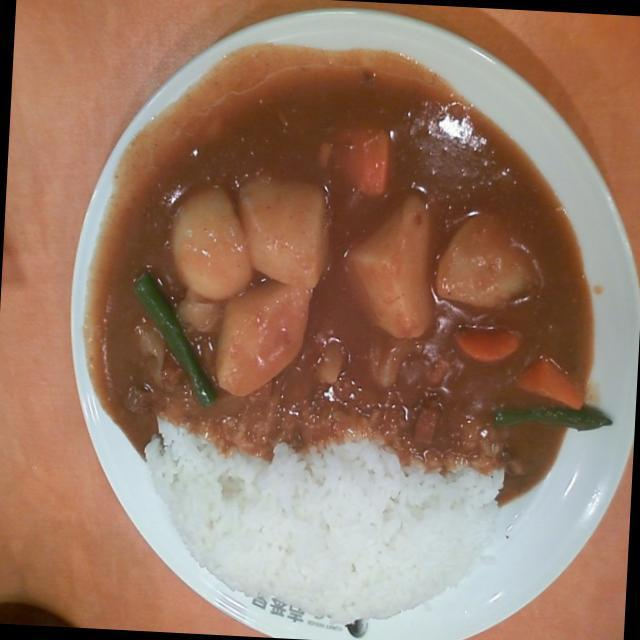Beef Curry: (62, 53, 618, 476)
Rice: (135, 439, 527, 634)
